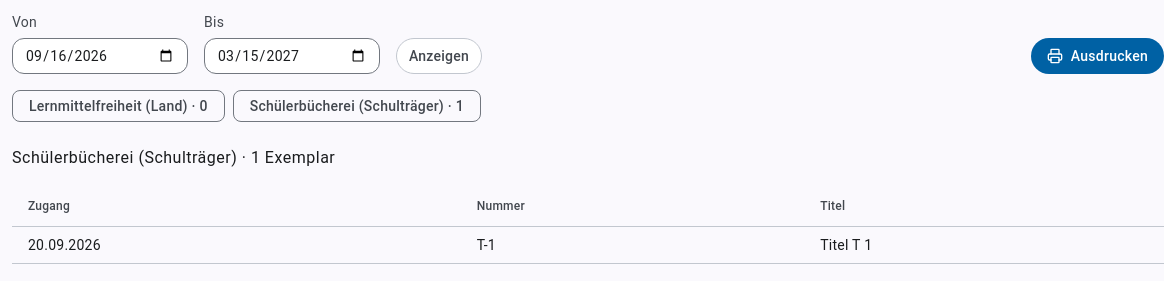
Bestandsbuch: die Töpfe als Felder mit Zahl › sagt bei einem leeren Topf erst nach dem Klick darauf, dass nichts zuging
The width and height of the screenshot is (1164, 281).
Expected: the element named "Nach Mittelherkunft filtern" is shown, [12,90,481,122]
Expected: the text "Kein Zugang in diesem Zeitraum." is not shown
Click the button "Lernmittelfreiheit (Land) · 0" at (118, 106), box [12,90,225,122]
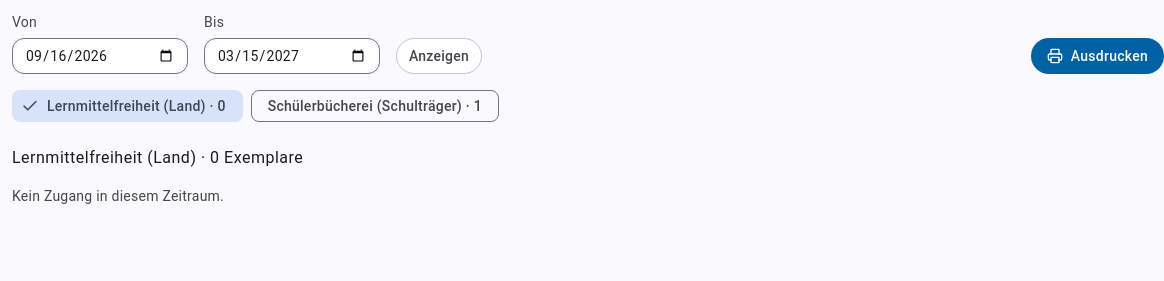
Expected: the text "Kein Zugang in diesem Zeitraum." is shown, [12,188,224,204]
